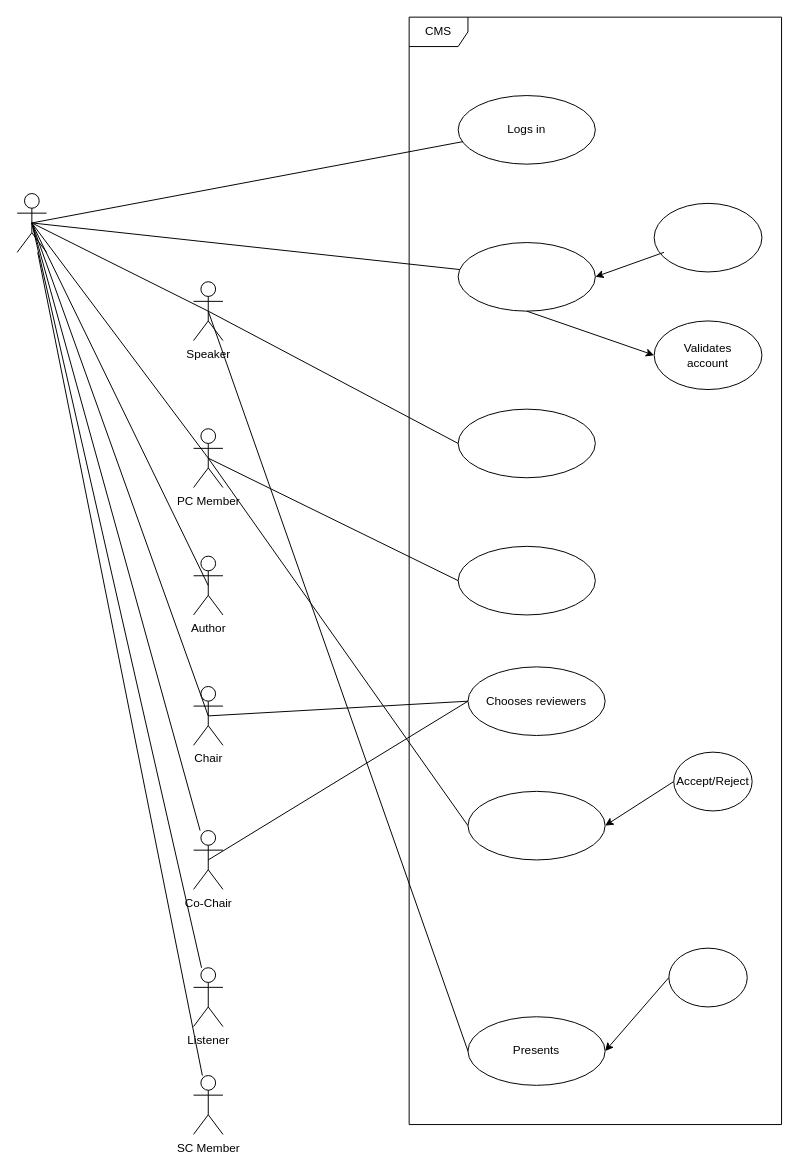
Image size: 799x1172. Some labels were removed from this diagram. Each missing label, with the centre of its shape:
"Bids proposal" goes at (x=526, y=580).
"Pays Tax" goes at (x=707, y=237).
"Registers" goes at (x=526, y=276).
"Reviews paper" goes at (x=536, y=825).
"Submits proposal" goes at (x=526, y=443).
"Uploads presentation" goes at (x=707, y=977).
"User" goes at (x=31, y=222).
